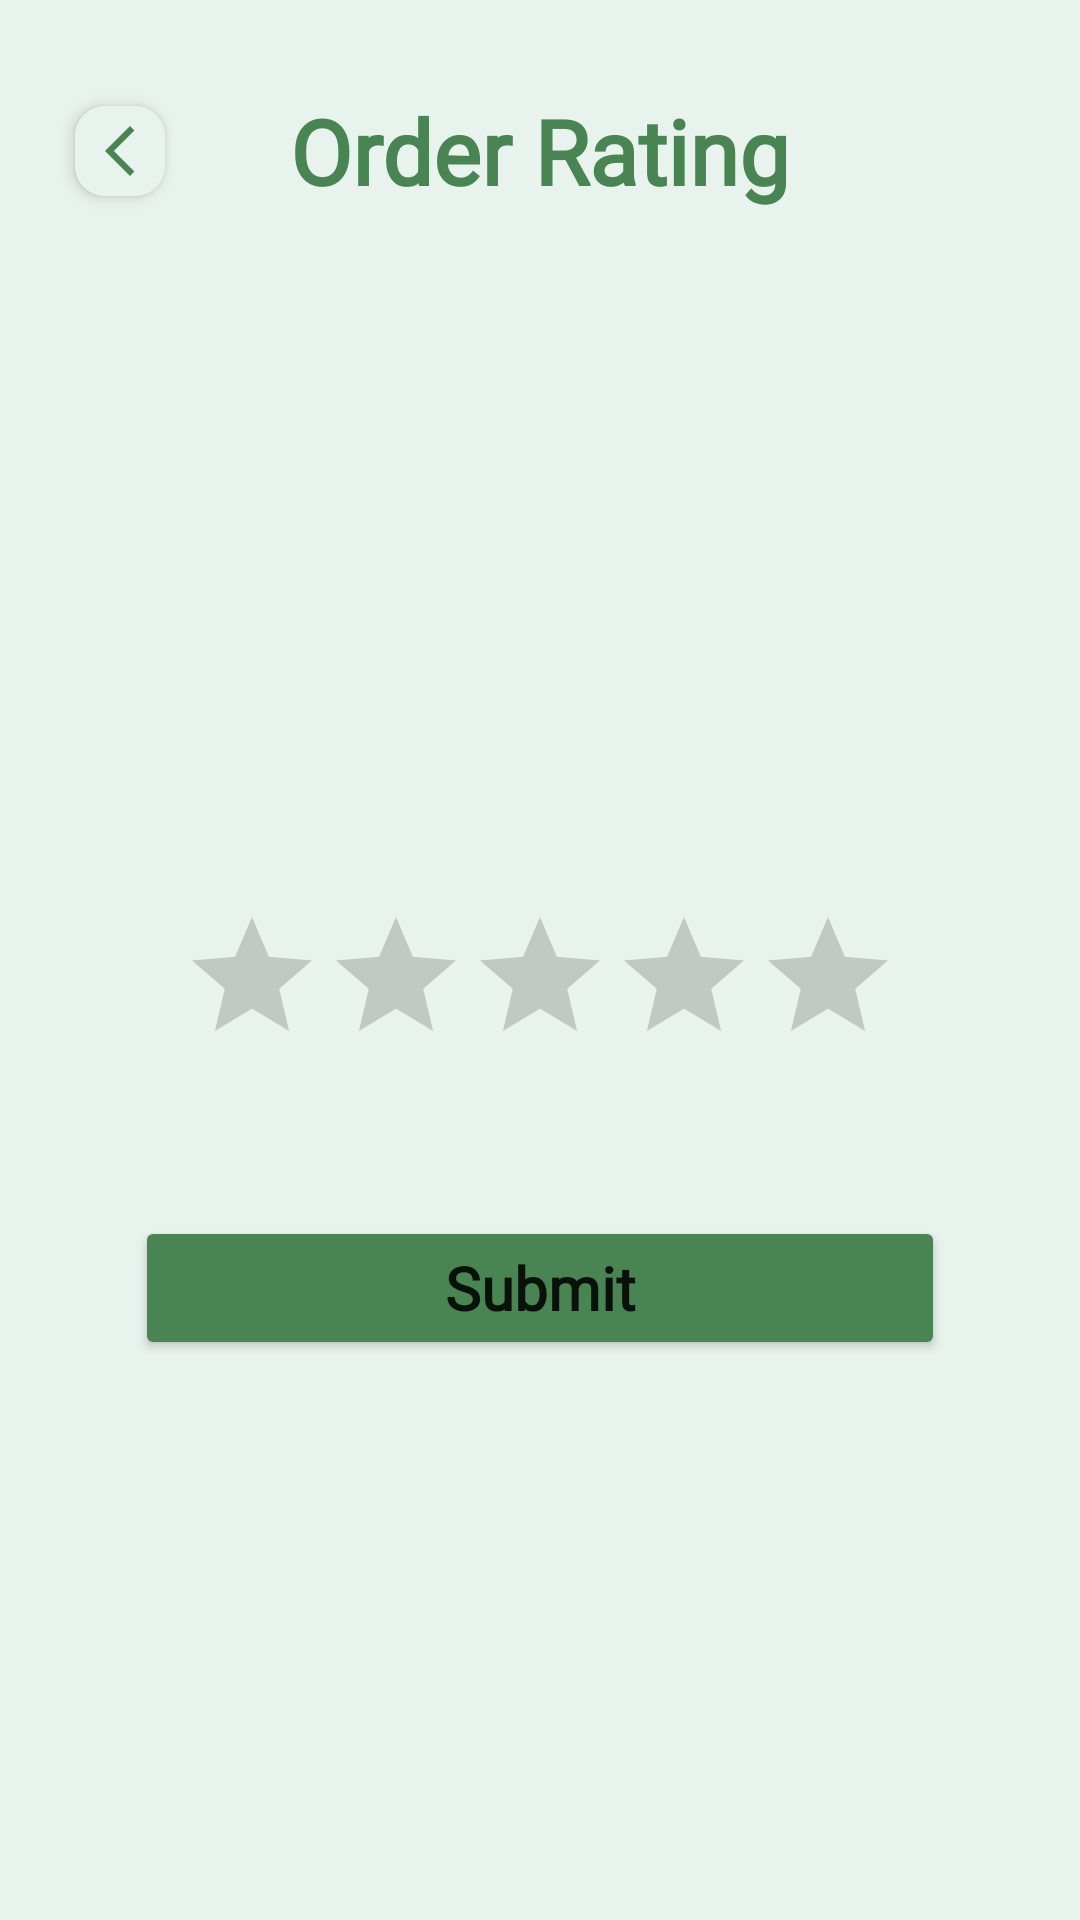

Icon bounding boxes for this 1080 × 1920 phone screenshot, format BBox(x1, y1, x2, y2):
back: BBox(105, 126, 135, 176)
